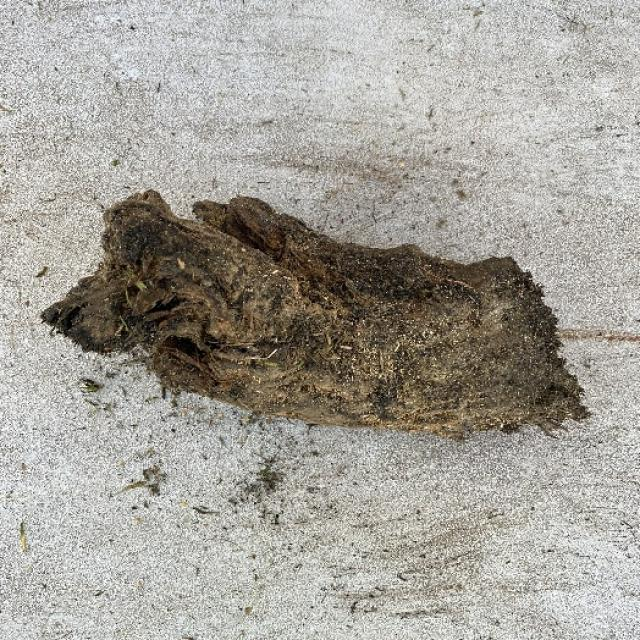organik: (53, 172, 584, 463)
